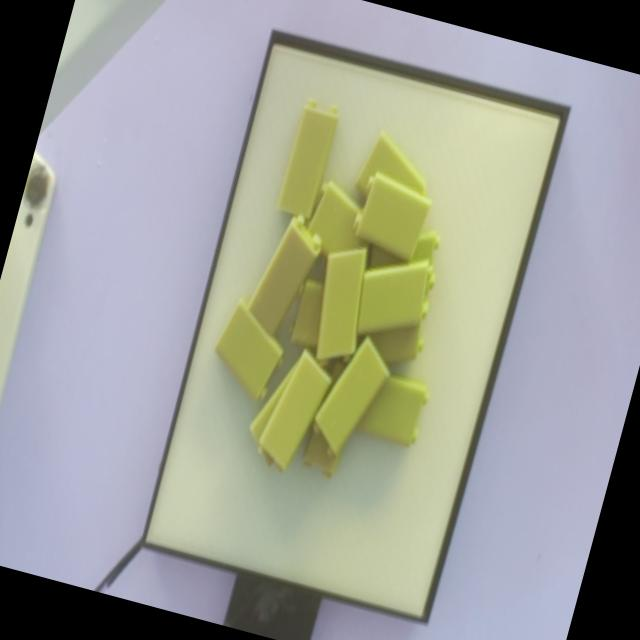bateria: (312, 334, 388, 458), (257, 349, 331, 474), (276, 99, 338, 218), (213, 300, 283, 403), (354, 172, 430, 260), (316, 248, 364, 365), (356, 260, 432, 333)
mesa: (139, 29, 570, 624)
